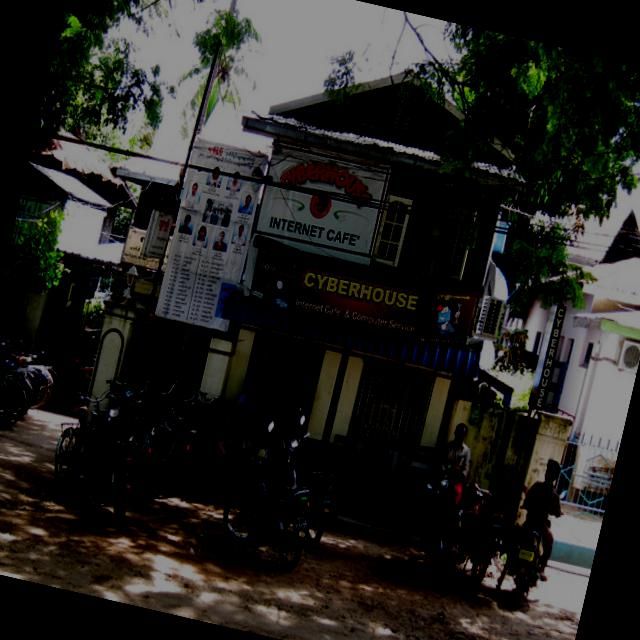Vehicle: (211, 412, 331, 572), (256, 410, 350, 550), (67, 395, 158, 526), (438, 477, 516, 589), (406, 474, 474, 587), (498, 522, 554, 612)
